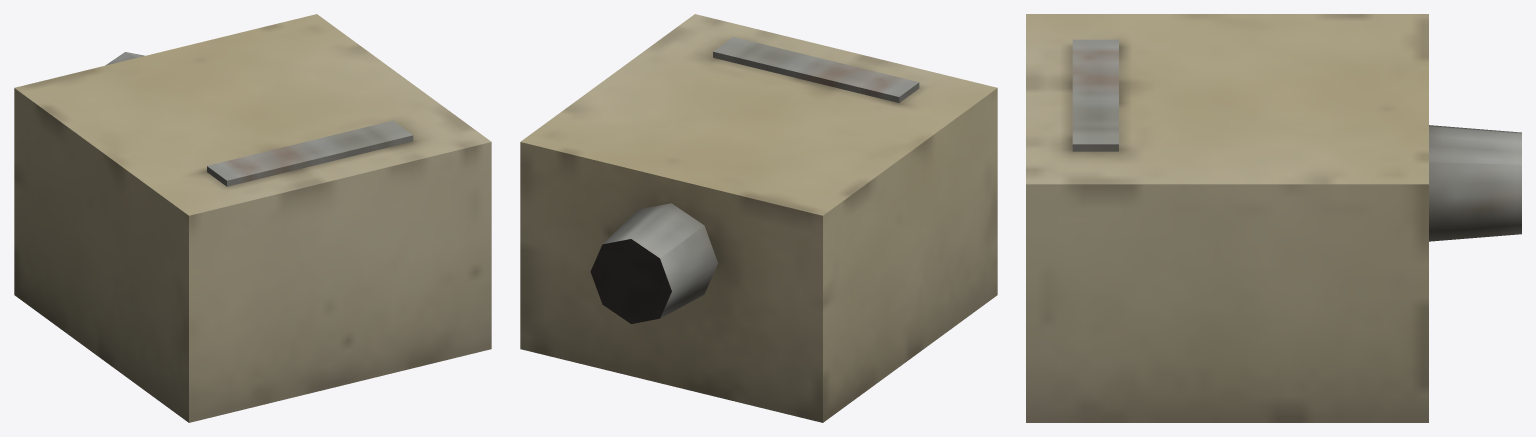
File: hand_dryer.obj
The picture shows the model from 3 angles, left to right: view 1: azimuth 30°, elevation 25°; view 2: azimuth 150°, elevation 25°; view 3: azimuth 270°, elevation 25°; orthographic projection. The views are drawn at different scales.
Size of the model in its own units: 0.26 by 0.175 by 0.32.
1 material, 1 textured.
